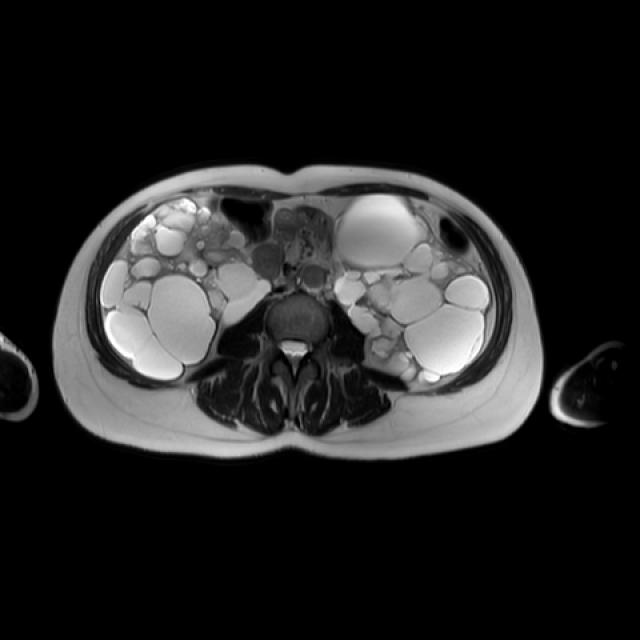sag: (102, 199, 272, 380)
sol: (334, 193, 491, 382)
